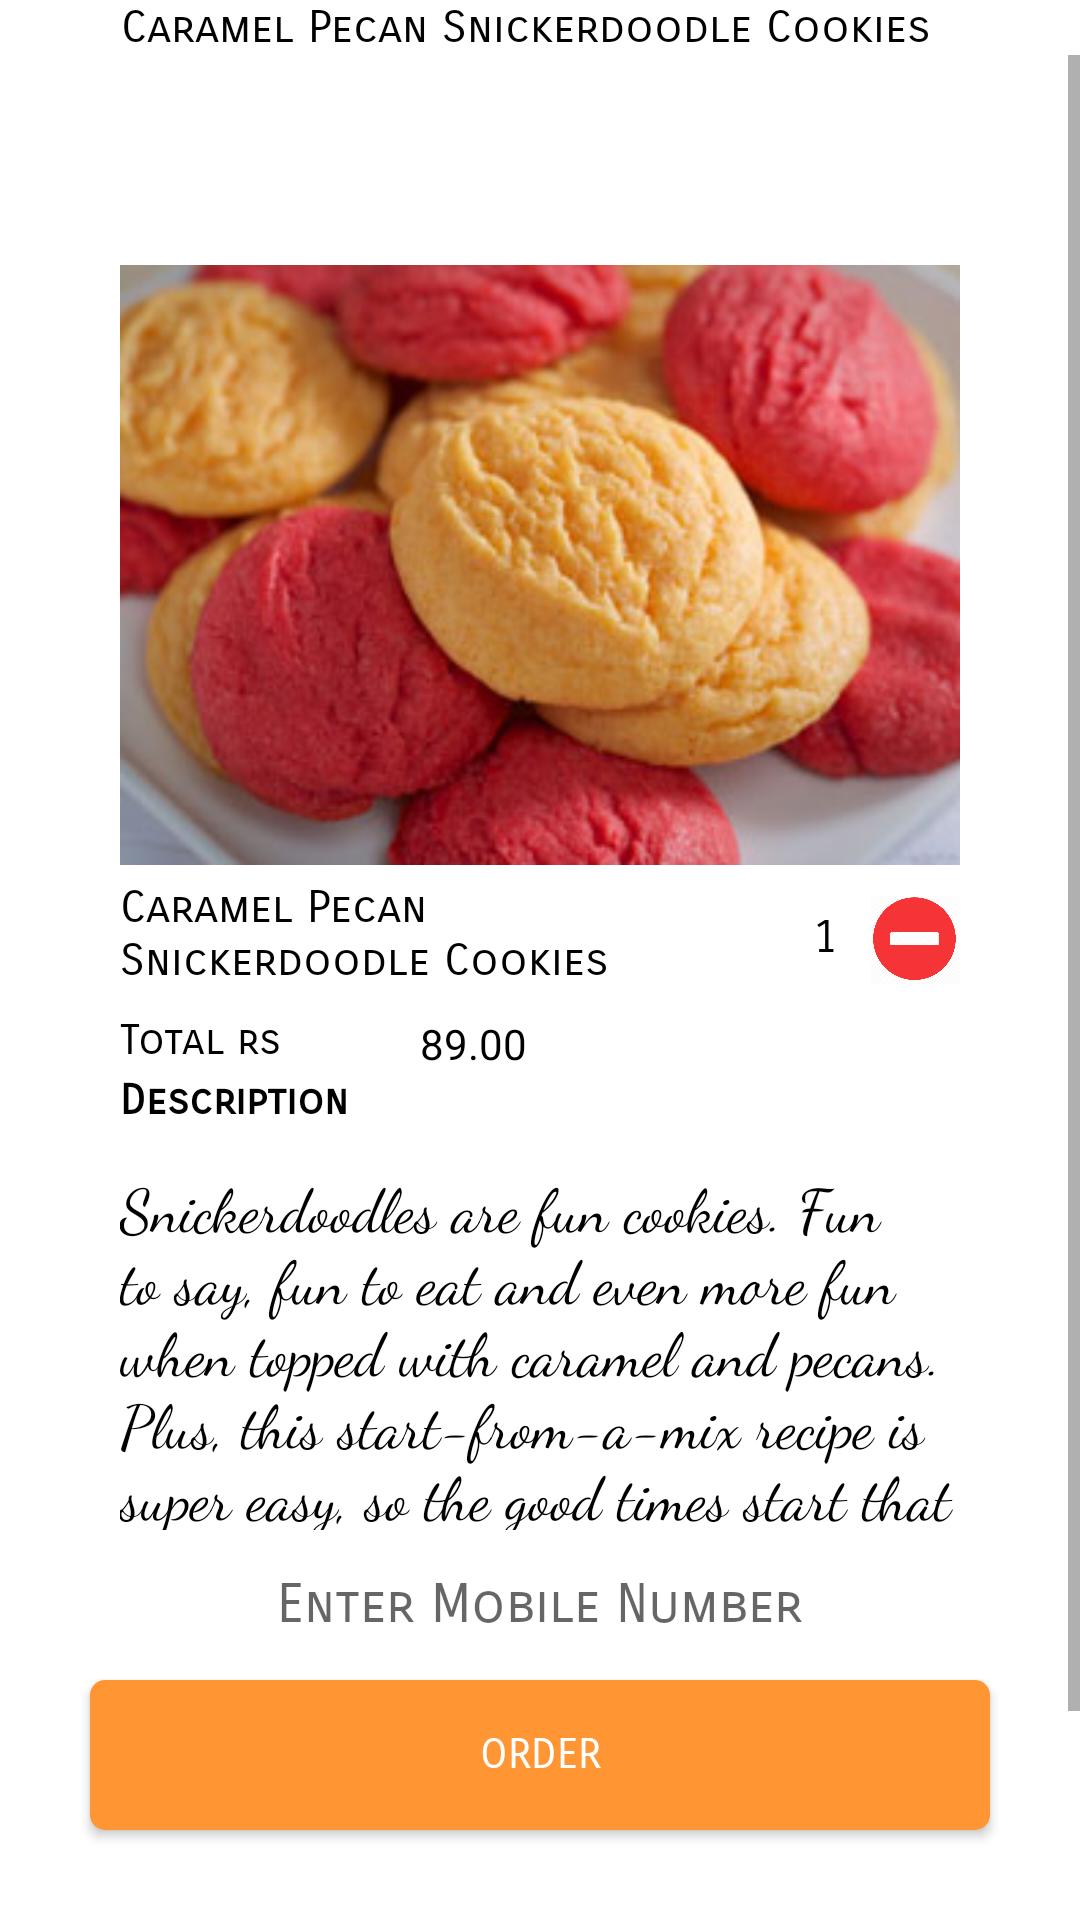

Named icons in this screenshot (1080*1920) and their centers, (x=x, y=y):
minus: (x=914, y=938)
